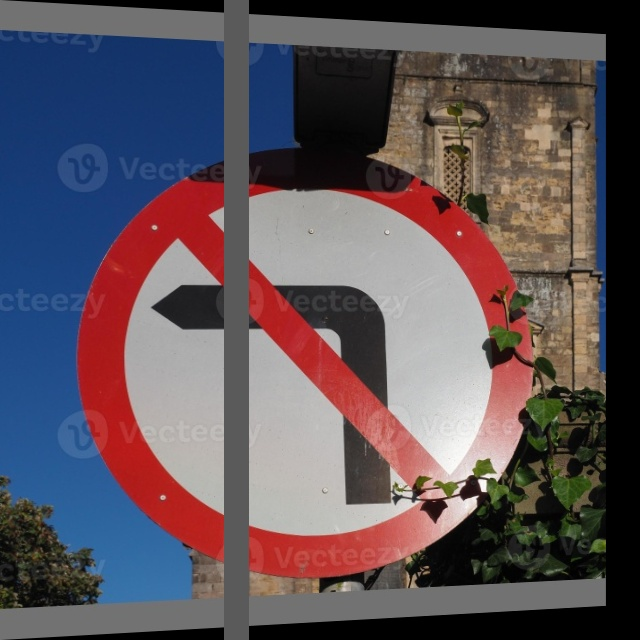Left_Turn_Prohibited: (79, 148, 532, 584)
